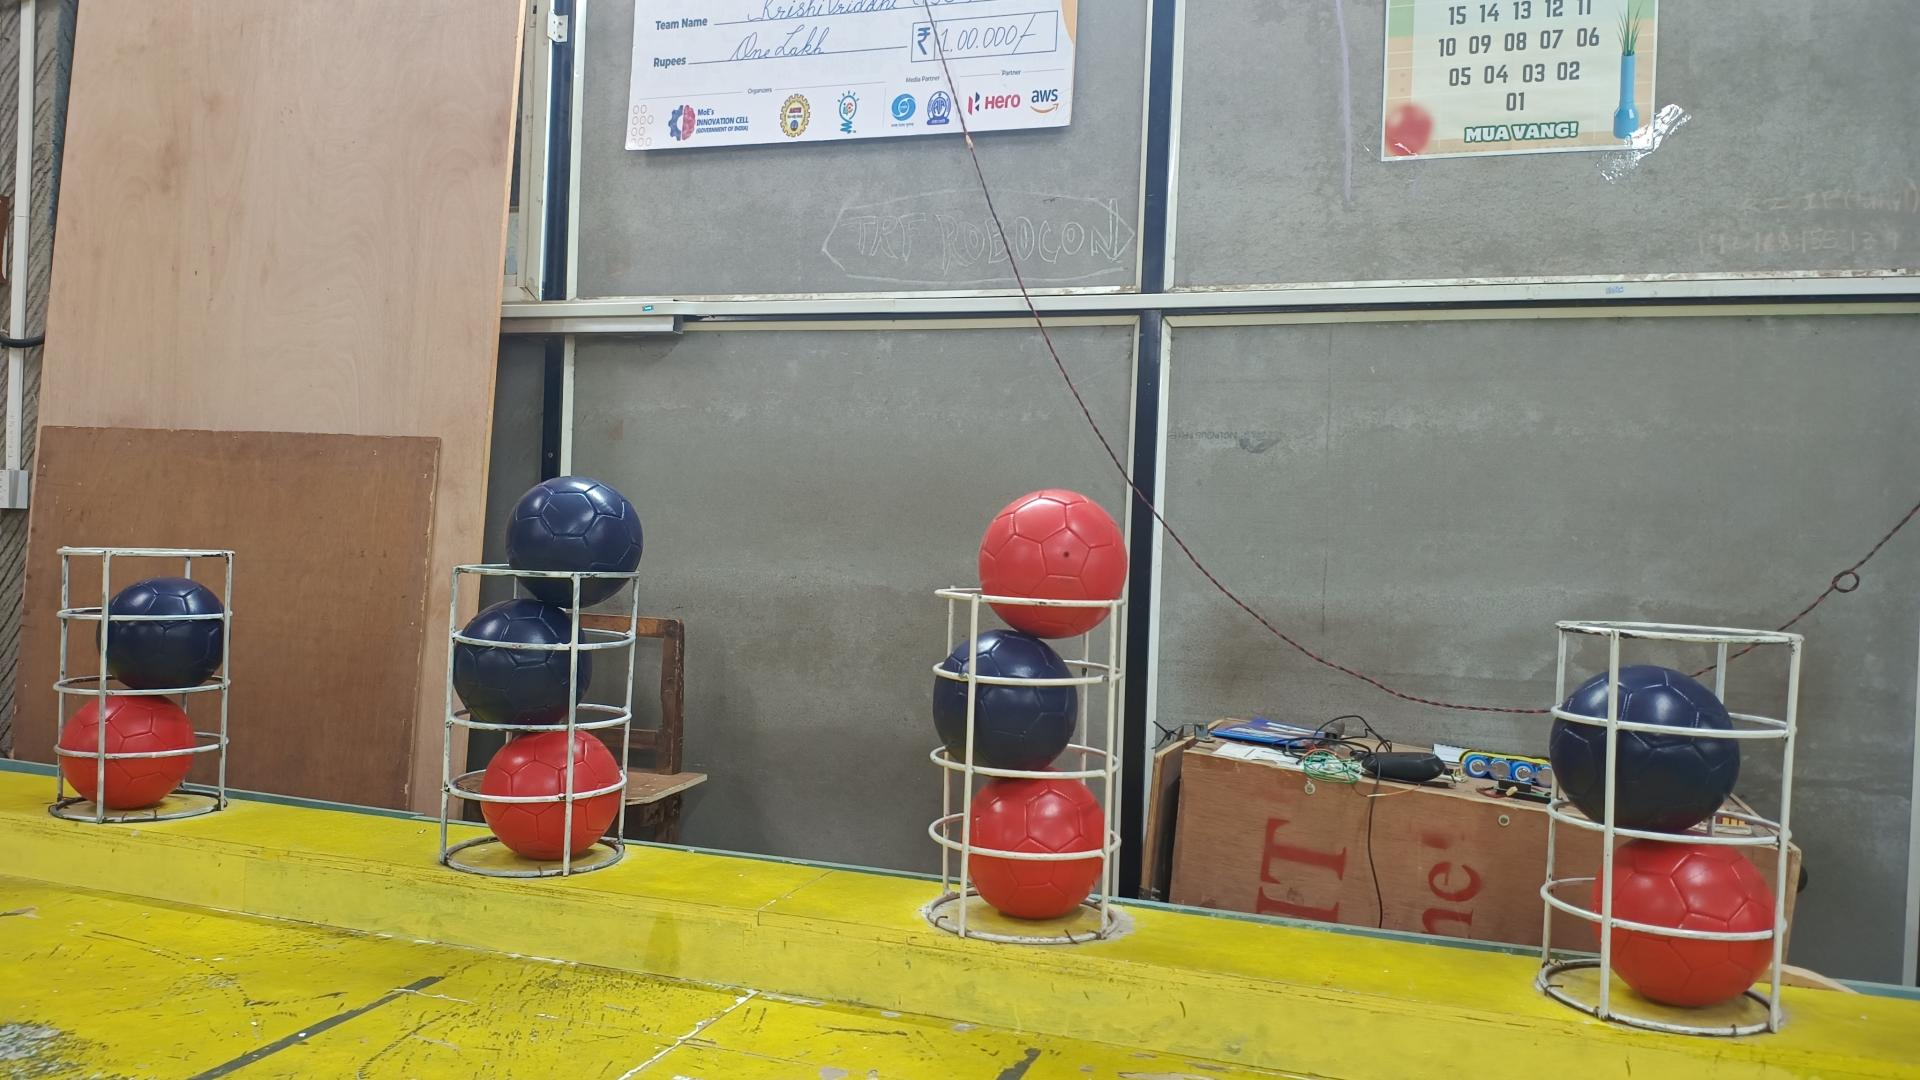dhoka: (1551, 662, 1742, 835), (935, 629, 1081, 767), (506, 476, 645, 608), (451, 600, 591, 728), (94, 579, 228, 691)
laale: (1589, 839, 1776, 1007), (980, 487, 1130, 637), (964, 774, 1110, 916), (480, 727, 622, 858), (58, 692, 196, 810)
